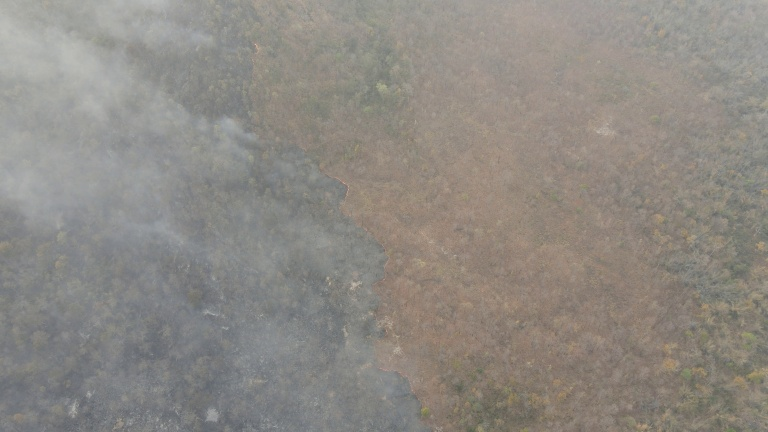smoke: (1, 1, 431, 429)
